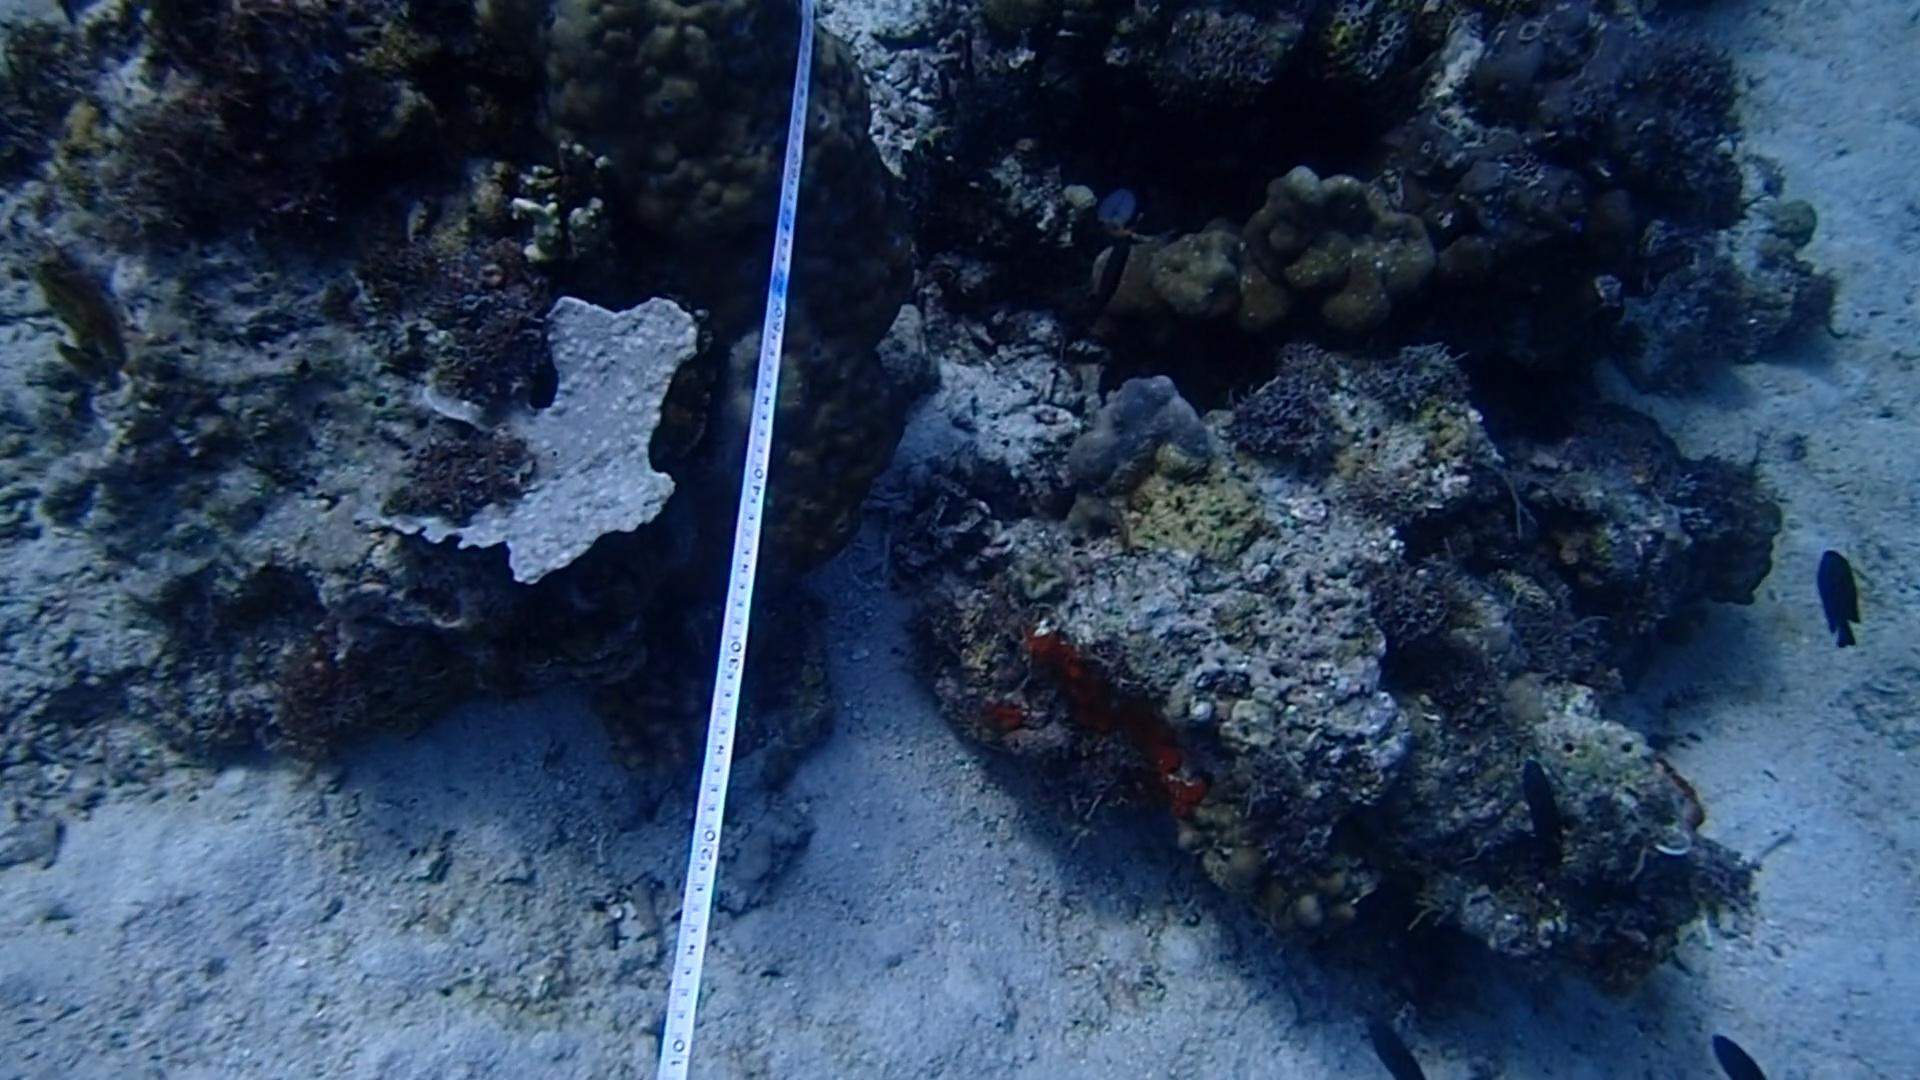Dark Fish: (1801, 533, 1875, 659), (1348, 996, 1422, 1080), (1685, 1027, 1767, 1080)
